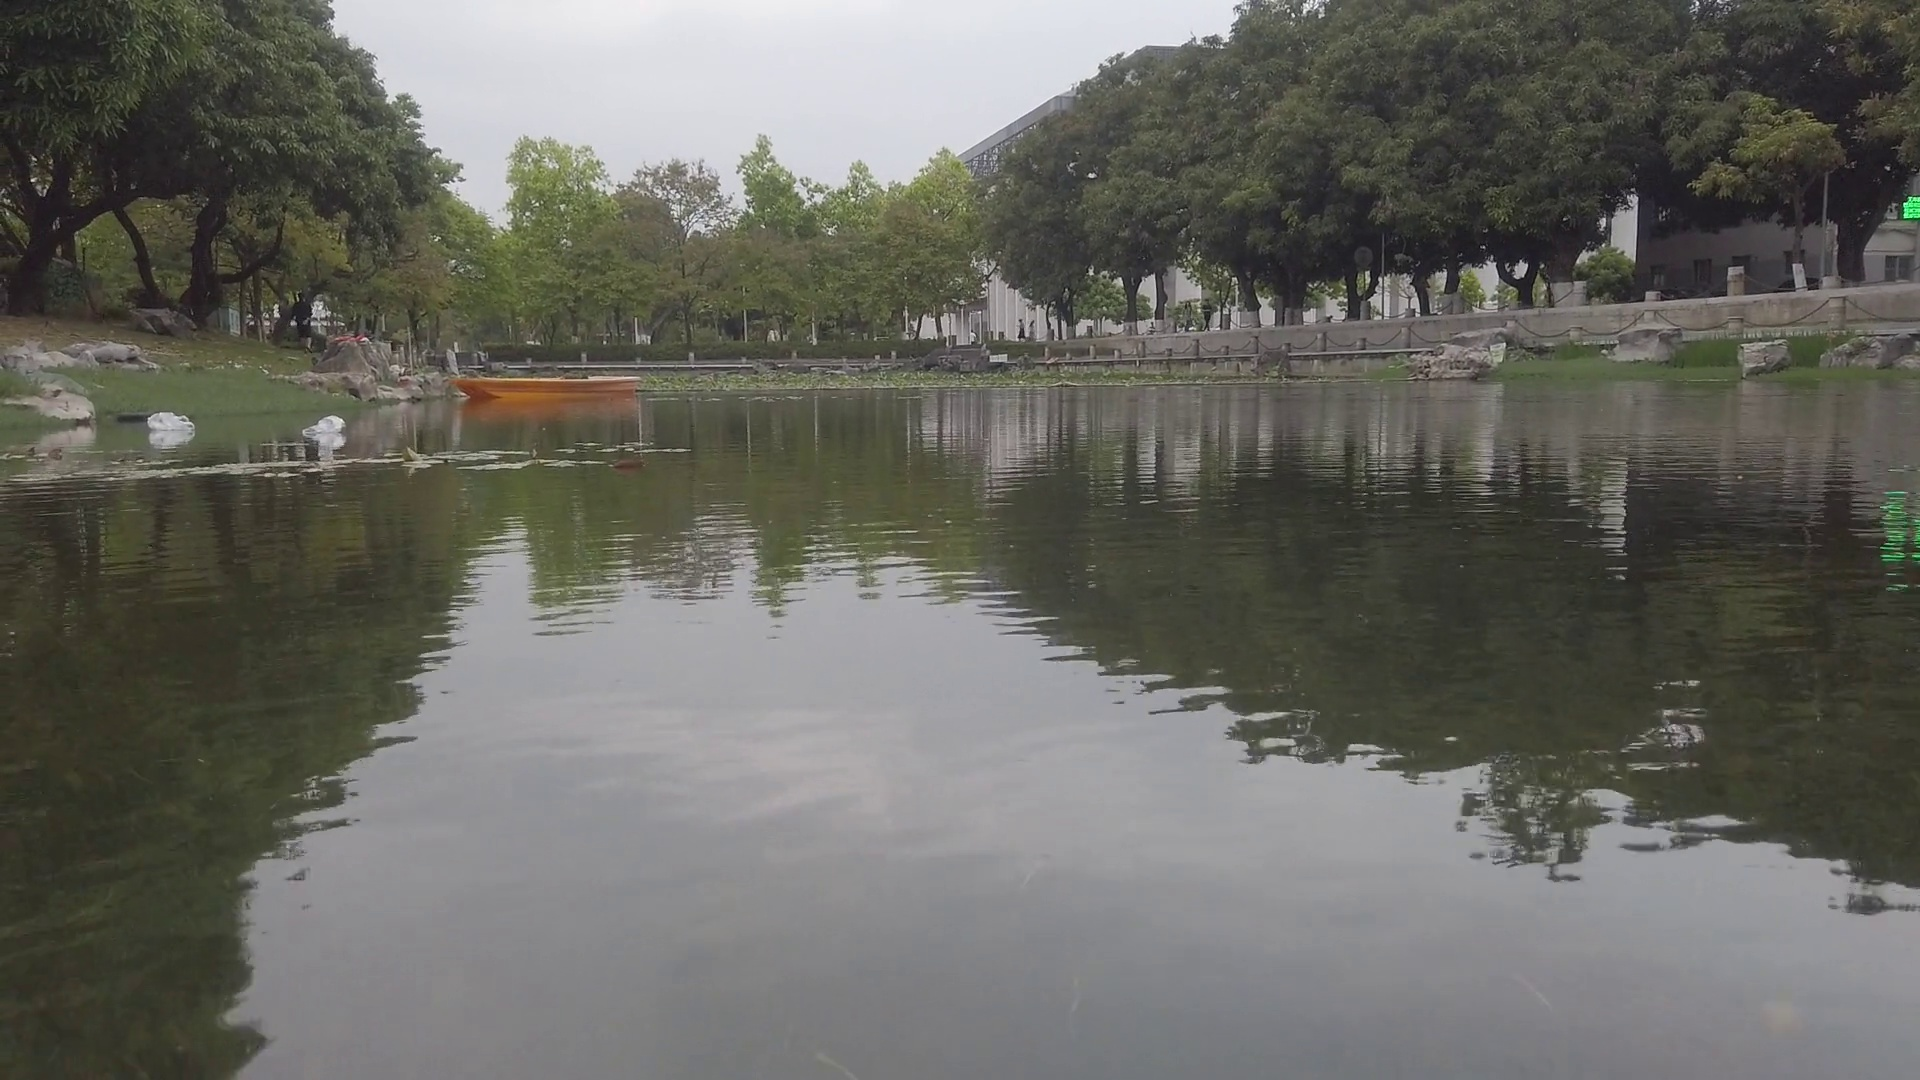paper: (262, 440, 313, 448)
plastic: (299, 413, 345, 435), (146, 411, 193, 434)
